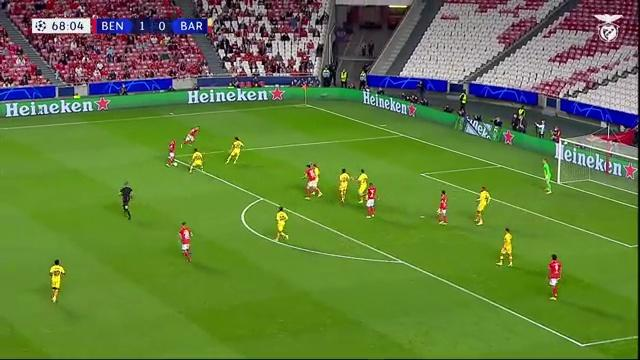football: (173, 162, 177, 166)
player: (49, 259, 65, 302), (496, 228, 512, 266), (548, 254, 561, 300), (305, 164, 322, 199), (475, 186, 490, 225), (179, 222, 192, 262), (275, 207, 289, 241), (226, 137, 243, 163), (356, 169, 368, 203), (339, 168, 350, 203), (181, 126, 199, 146), (366, 183, 376, 217), (437, 190, 447, 224), (189, 148, 202, 173), (312, 163, 321, 195), (543, 158, 551, 193), (166, 140, 175, 166)
referee: (119, 182, 132, 219)
